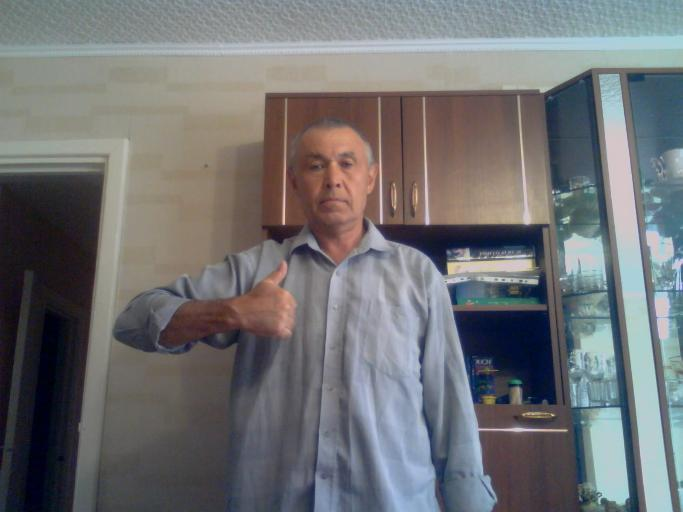like: (237, 257, 298, 341)
